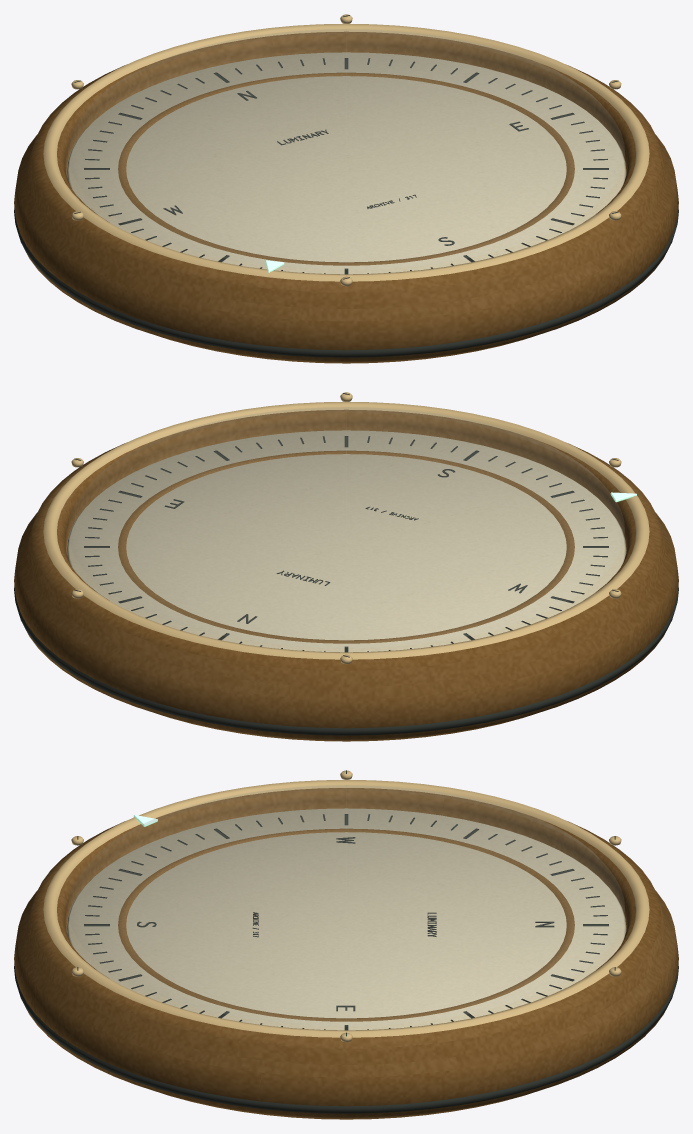
The model's file is compass-case.glb.
3 renders of one model, top to bottom at view 1: azimuth 30°, elevation 25°; view 2: azimuth 150°, elevation 25°; view 3: azimuth 270°, elevation 25°, orthographic.
Parts seen in each view (by area): view 1: Ivory dial inset, Compass_Case / Aged brass, Compass_Case / Polished touch edges, Compass_Case / Engraved charcoal, Lens curved edge; view 2: Ivory dial inset, Compass_Case / Aged brass, Compass_Case / Polished touch edges, Compass_Case / Engraved charcoal, Lens curved edge; view 3: Ivory dial inset, Compass_Case / Aged brass, Compass_Case / Polished touch edges, Compass_Case / Engraved charcoal, Lens curved edge.
Boxes of the visible parts, x1=… form: Ivory dial inset: x1=66, y1=52, x2=626, y2=274; Compass_Case / Aged brass: x1=14, y1=31, x2=678, y2=363; Compass_Case / Polished touch edges: x1=43, y1=14, x2=649, y2=286; Compass_Case / Engraved charcoal: x1=14, y1=15, x2=678, y2=357; Lens curved edge: x1=94, y1=29, x2=598, y2=269; Ivory dial inset: x1=66, y1=430, x2=626, y2=652; Compass_Case / Aged brass: x1=14, y1=409, x2=678, y2=741; Compass_Case / Polished touch edges: x1=43, y1=392, x2=649, y2=664; Compass_Case / Engraved charcoal: x1=14, y1=393, x2=678, y2=735; Lens curved edge: x1=94, y1=407, x2=598, y2=647; Ivory dial inset: x1=66, y1=808, x2=626, y2=1030; Compass_Case / Aged brass: x1=14, y1=788, x2=678, y2=1119; Compass_Case / Polished touch edges: x1=43, y1=770, x2=649, y2=1042; Compass_Case / Engraved charcoal: x1=14, y1=770, x2=678, y2=1113; Lens curved edge: x1=89, y1=785, x2=603, y2=1025.
Bounding box in the file's own units: 1.47 × 0.279 × 1.47.
Materials: 6 (2 with a texture image).
